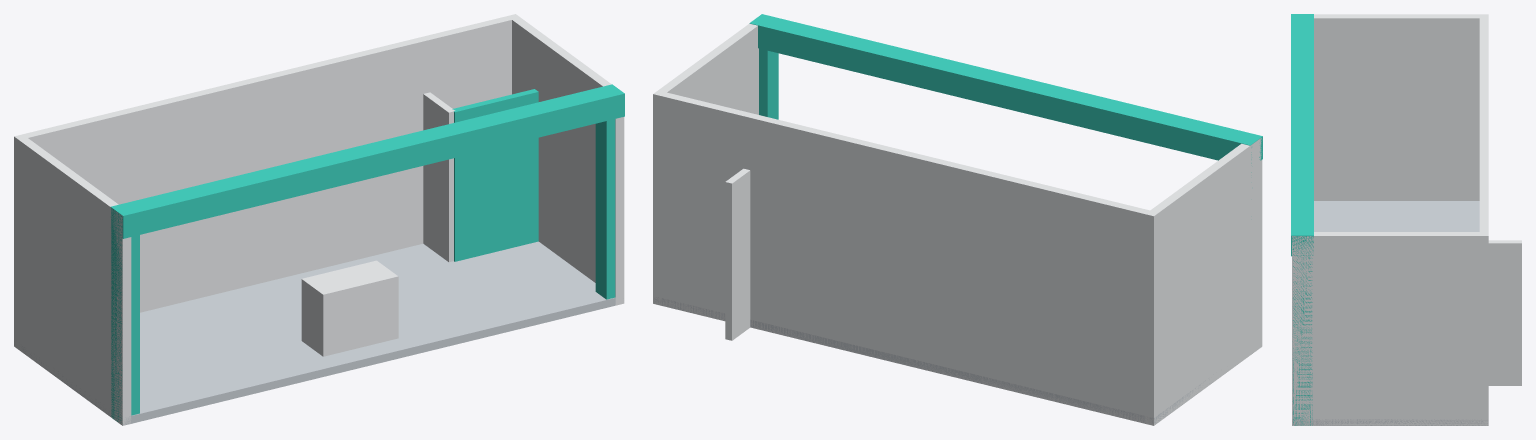
3 views of the same model, side by side, from view 1: azimuth 30°, elevation 25°; view 2: azimuth 150°, elevation 25°; view 3: azimuth 270°, elevation 25° (orthographic). The views are drawn at different scales.
Visible parts, largest first — view 1: Exhibition Booth Concept; view 2: Exhibition Booth Concept; view 3: Exhibition Booth Concept.
Part boxes in pixels (x1,y1,x2,y2): Exhibition Booth Concept: (14,14,624,425); Exhibition Booth Concept: (653,14,1262,425); Exhibition Booth Concept: (1291,14,1521,425).
Bounding box in the file's own units: 8 × 3.2 × 3.52.
